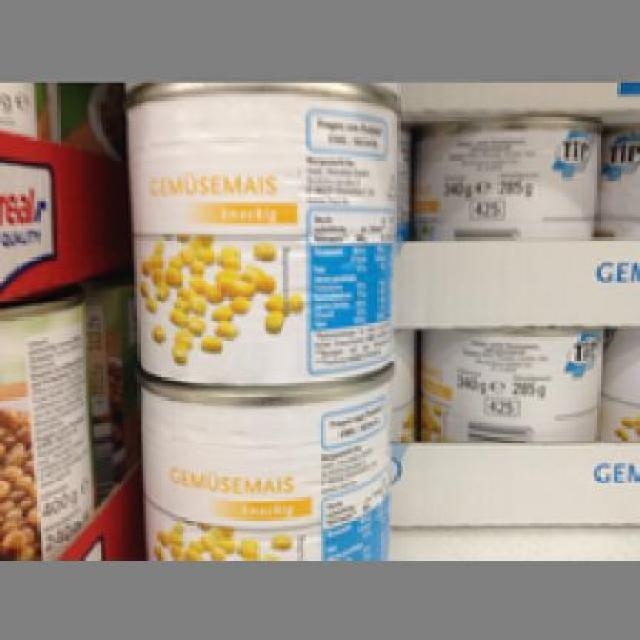Corn: (122, 83, 398, 383), (132, 368, 392, 558), (410, 322, 606, 438), (412, 117, 598, 234)
